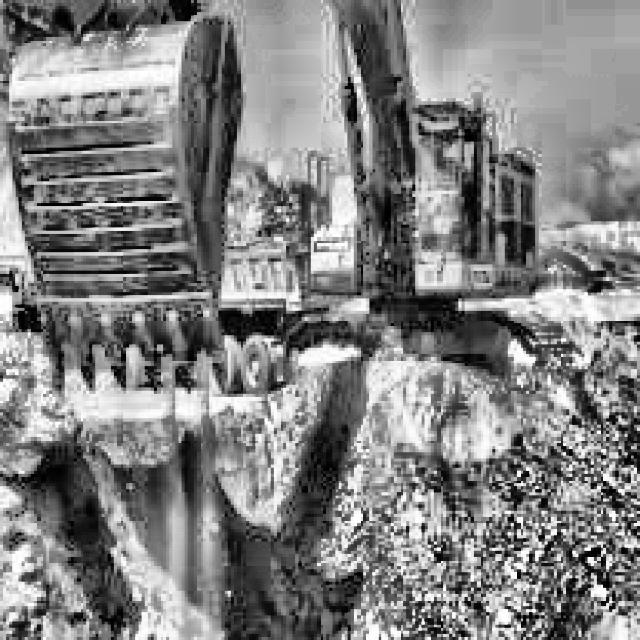dump_truck: (215, 240, 308, 388), (0, 250, 40, 338)
excavator: (6, 0, 557, 397)
